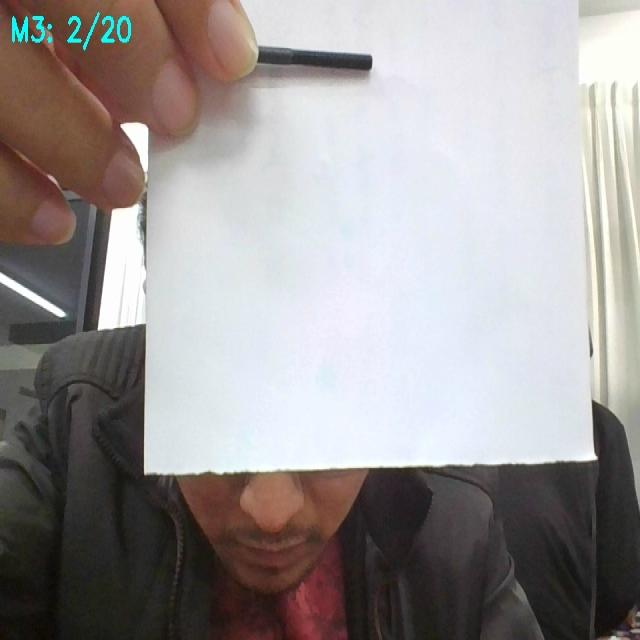vastago: (257, 48, 372, 71)
